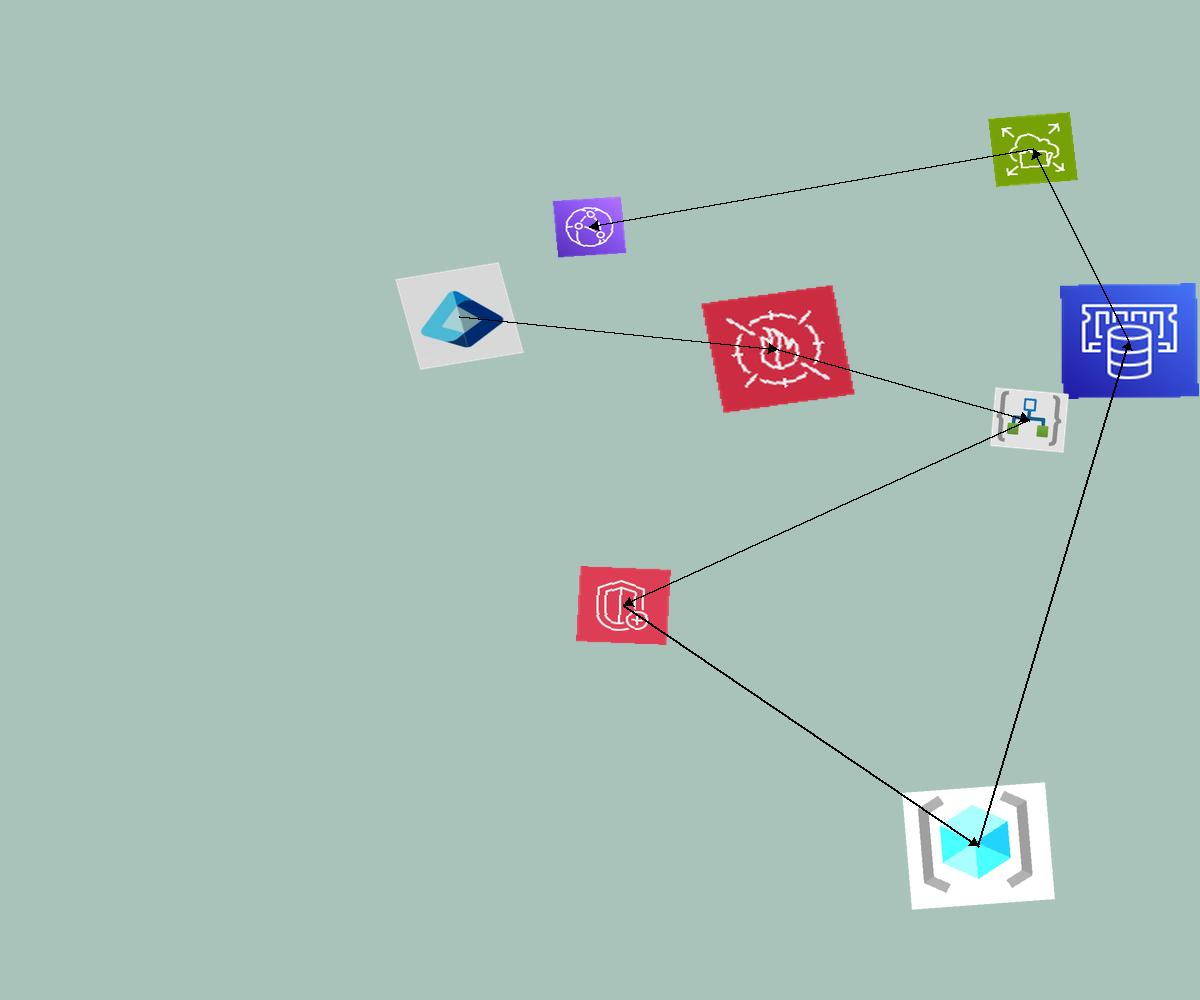AWS-CloudFront: (552, 196, 627, 258)
AWS-EFS: (988, 112, 1078, 187)
AWS-ElastiCache: (1060, 283, 1199, 399)
AWS-Shield: (576, 566, 671, 645)
AWS-WAF: (700, 284, 856, 414)
Azure_integration-204-Logic-Apps: (990, 387, 1069, 453)
Azure_microsoft_entra: (395, 262, 524, 370)
Azure_resource_group: (902, 782, 1055, 910)
